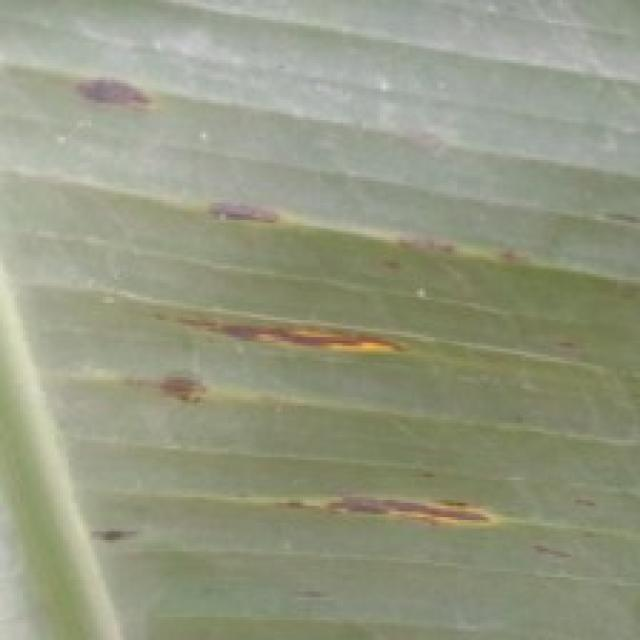Early_leaf_spot: (154, 284, 454, 412), (258, 471, 524, 562), (377, 228, 548, 286), (68, 65, 192, 140), (194, 185, 286, 248), (84, 495, 158, 566)
